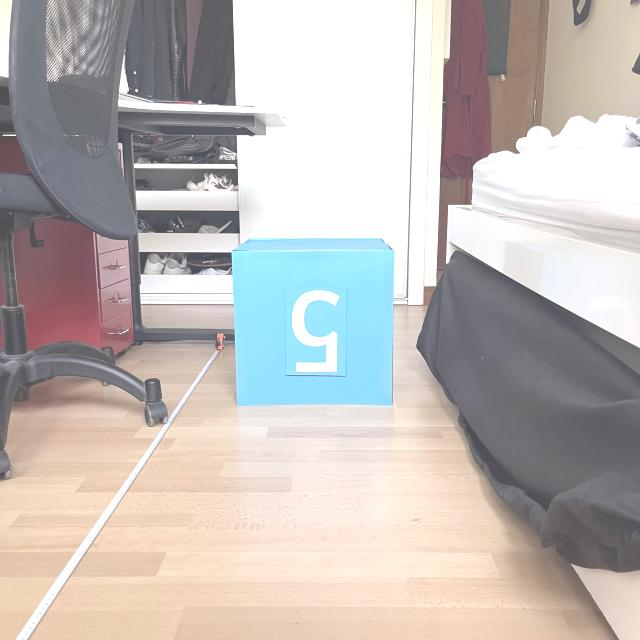box: (227, 232, 398, 408)
